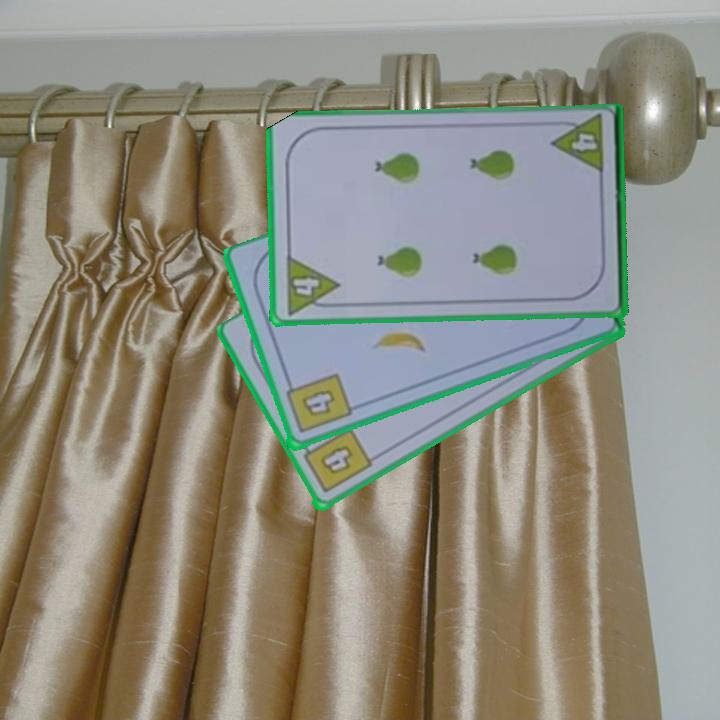4b: (297, 425, 375, 497), (282, 370, 354, 437)
4p: (282, 252, 342, 318), (549, 113, 607, 178)
